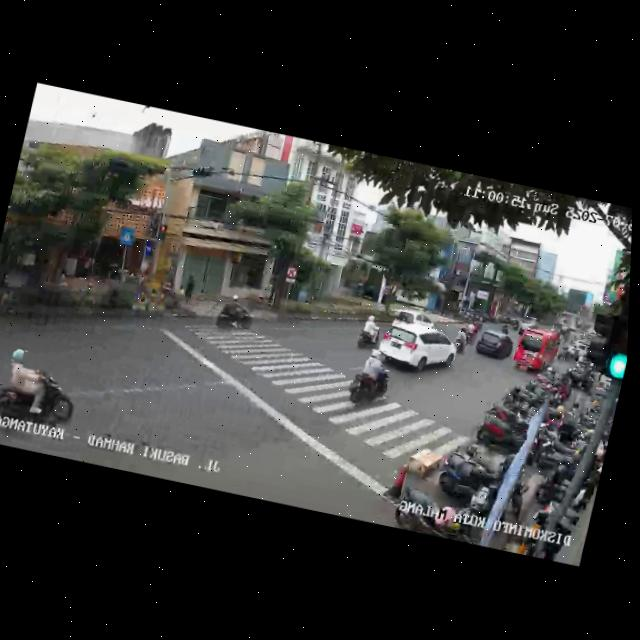car: (373, 316, 462, 382), (511, 325, 563, 379), (472, 328, 516, 367)
motorcycle: (0, 348, 80, 448), (345, 346, 397, 412), (215, 293, 255, 334), (354, 311, 384, 353), (452, 324, 471, 353)
